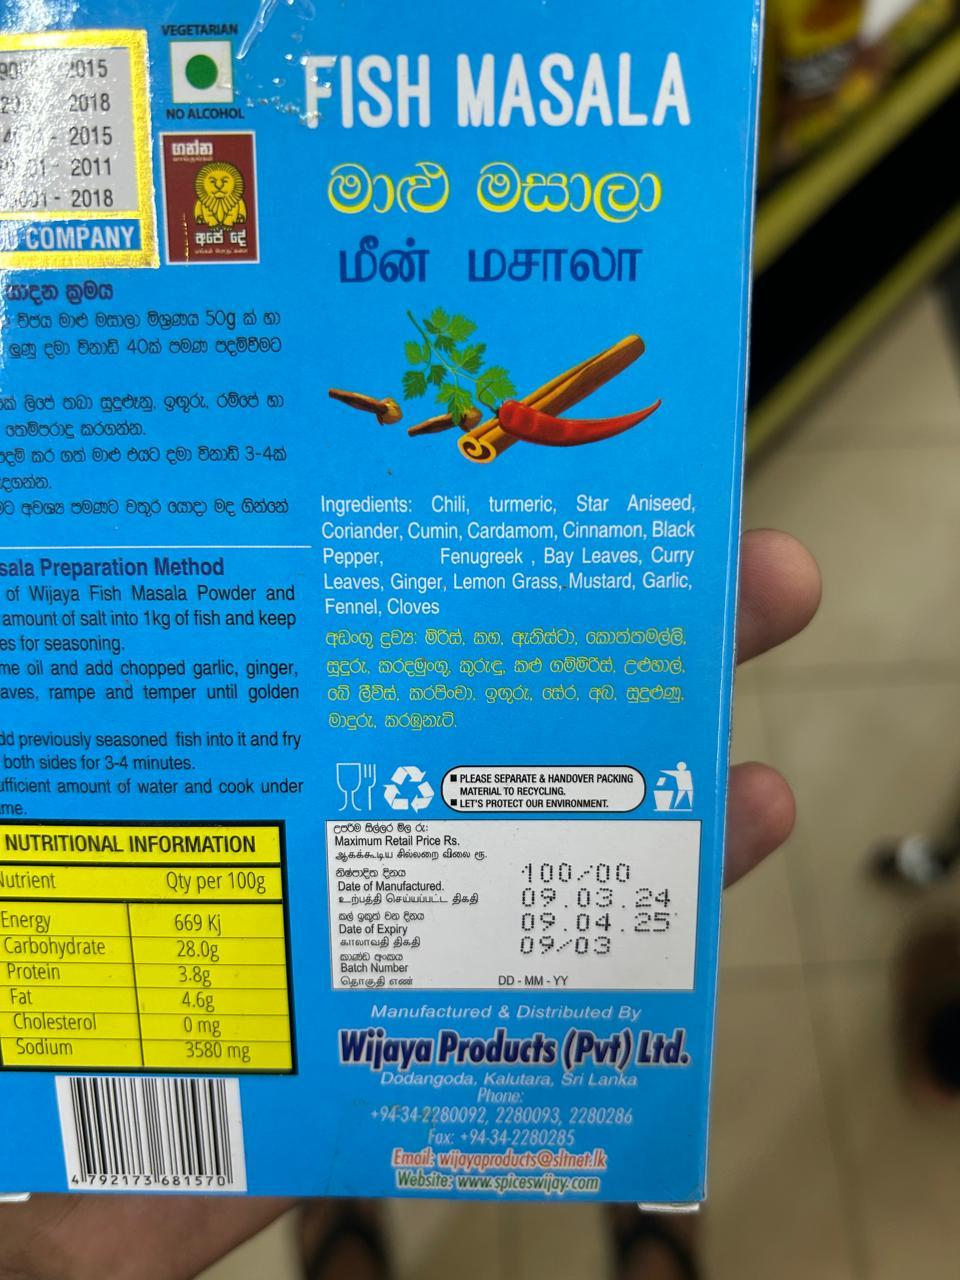ingredients: (314, 465, 724, 634)
